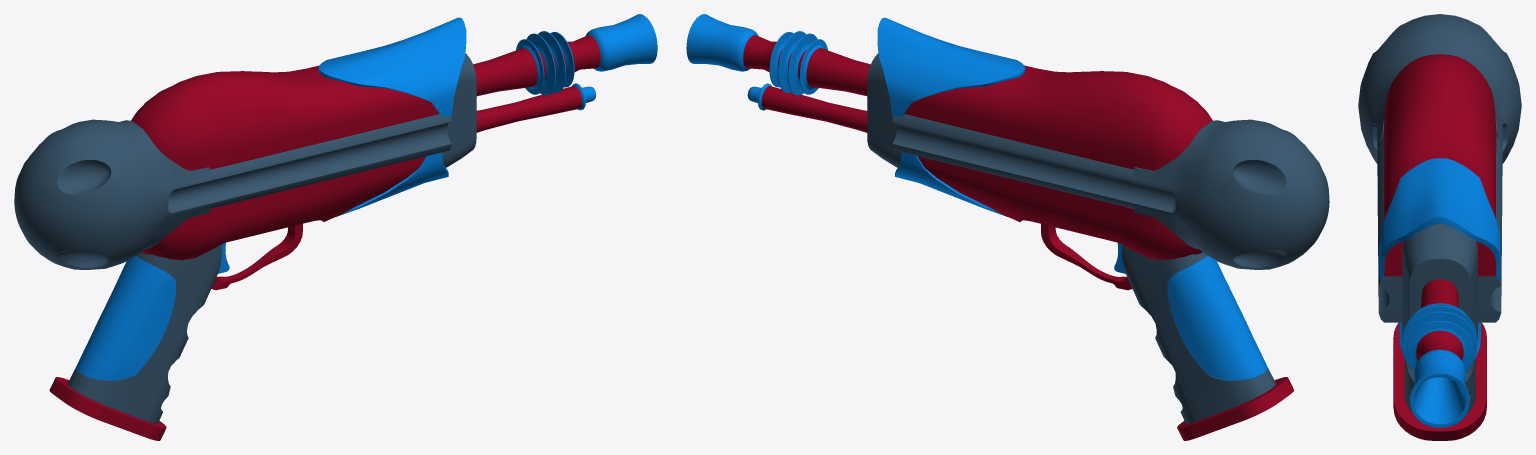
The model's file is ToyGun.fbx.
The picture shows the model from 3 angles, left to right: view 1: azimuth 30°, elevation 25°; view 2: azimuth 150°, elevation 25°; view 3: azimuth 270°, elevation 25°; orthographic projection. The views are drawn at different scales.
Parts seen in each view (by area): view 1: ToyGun; view 2: ToyGun; view 3: ToyGun.
Boxes of the visible parts, box(x1,y1,x2,y2) form: ToyGun: box(14, 14, 657, 440); ToyGun: box(686, 14, 1329, 440); ToyGun: box(1358, 14, 1521, 440).
Size of the model in its own units: 142 by 74.62 by 27.15.
